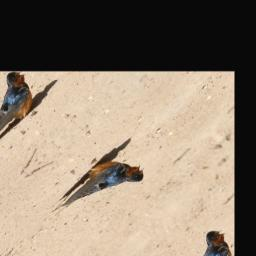Swallow: (49, 147, 150, 237)
